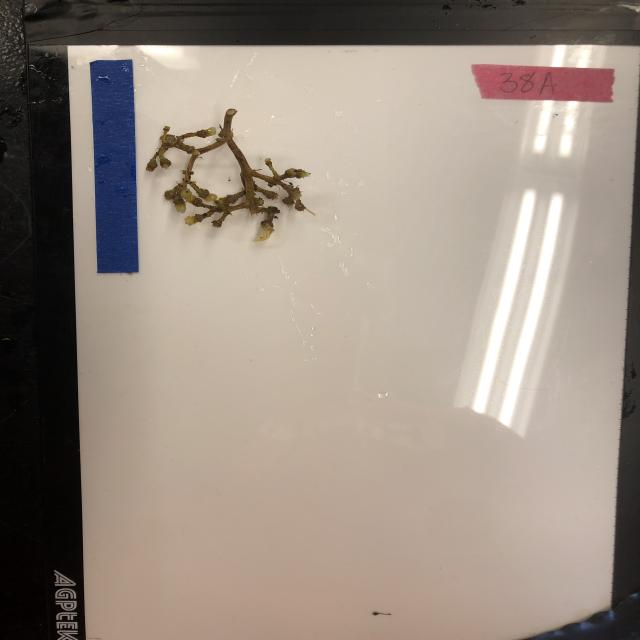index: (471, 61, 617, 106)
measure_label: (87, 57, 143, 277)
rachis_cluster: (143, 104, 320, 245)
